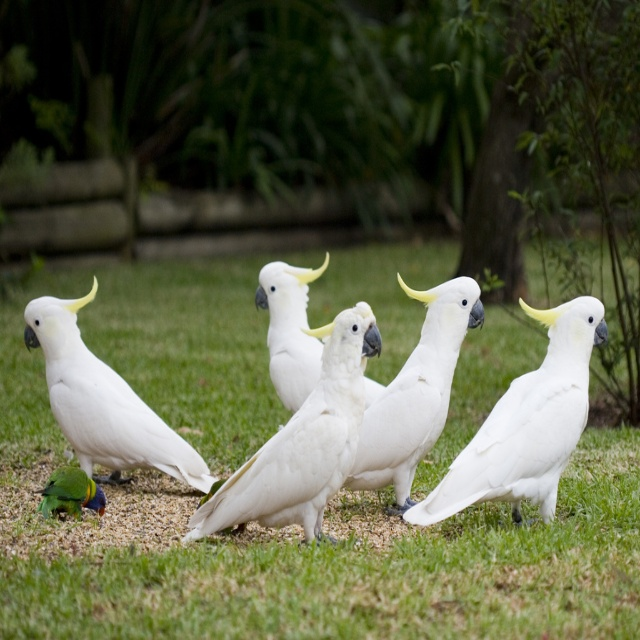Parrot: (24, 249, 610, 548)
